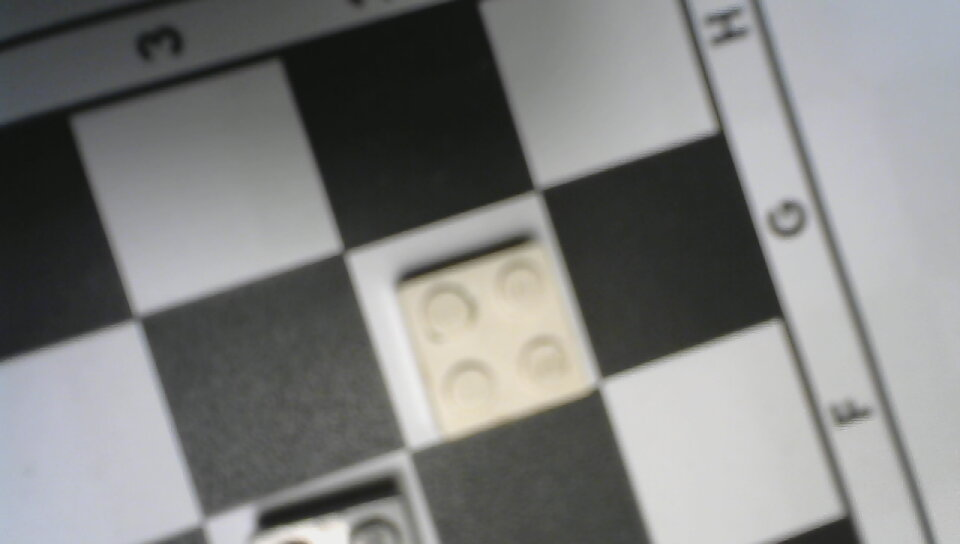wp: (376, 229, 606, 456)
